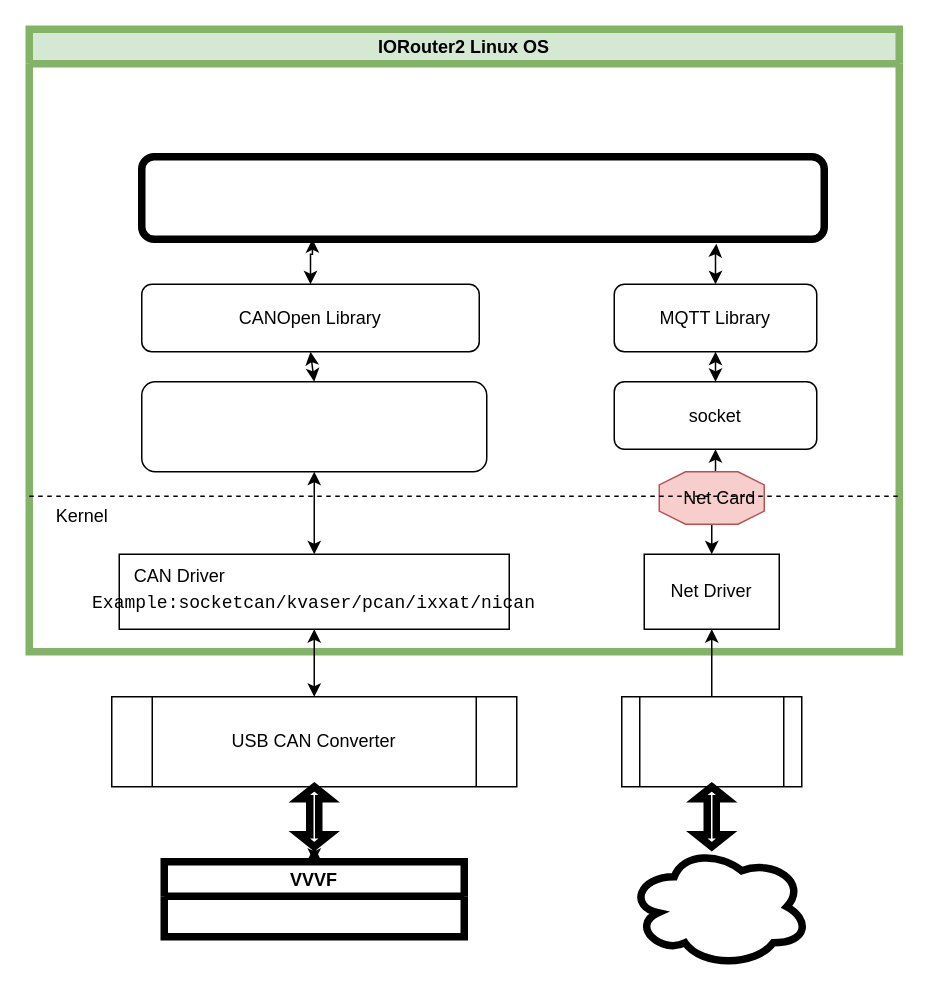
The diagram is 929 pixels wide and 996 high, and some of its shapes have lost their labels. Here are the shapes that lost their labels. From the top down, the centre of each, then its label:
At point (482, 197): "Logic Control".
At point (313, 426): "CAN Library (Example:libpcan,libsocketio)".
At point (711, 741): "LTE Modem".
At point (718, 906): "CLOUD".
